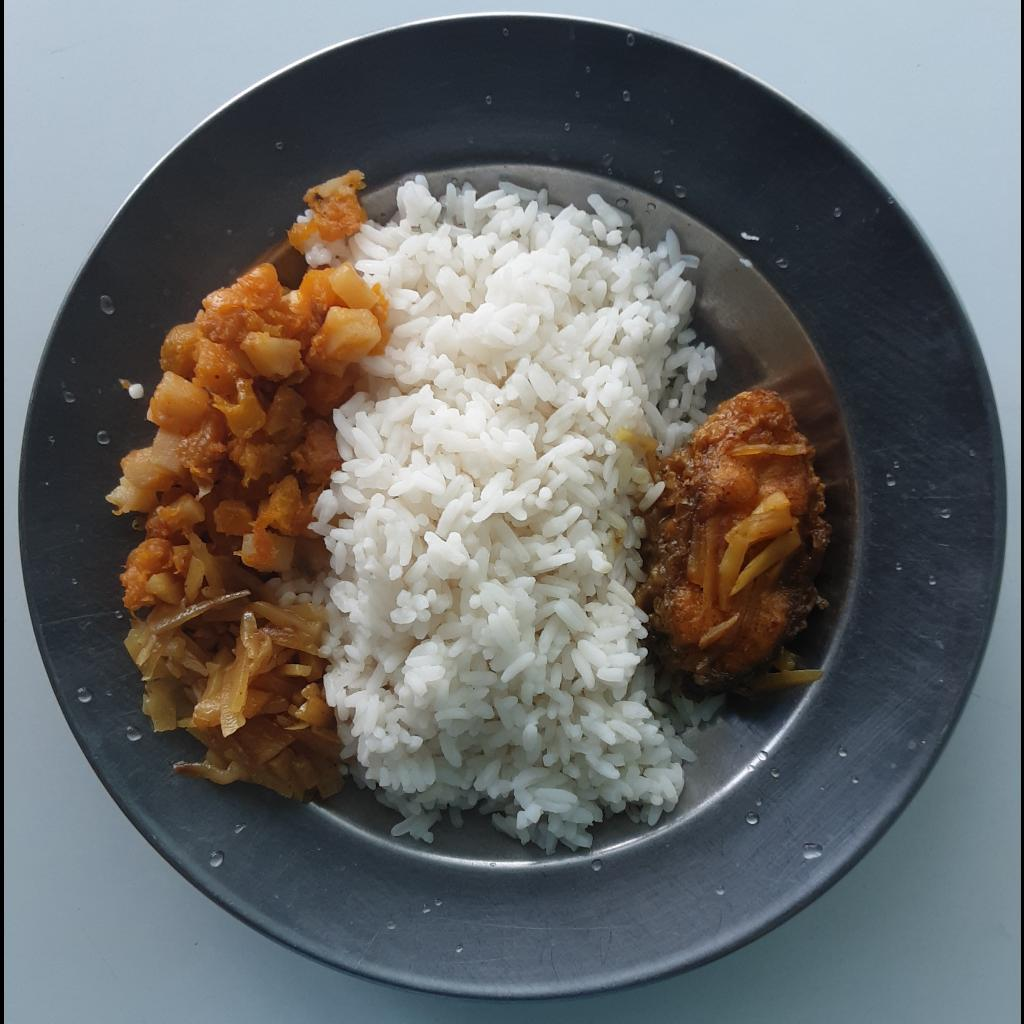fish: (638, 385, 831, 690)
kumra-vaji: (105, 257, 385, 610), (284, 169, 366, 265)
potato: (124, 545, 332, 797)
rice: (273, 169, 727, 853)
